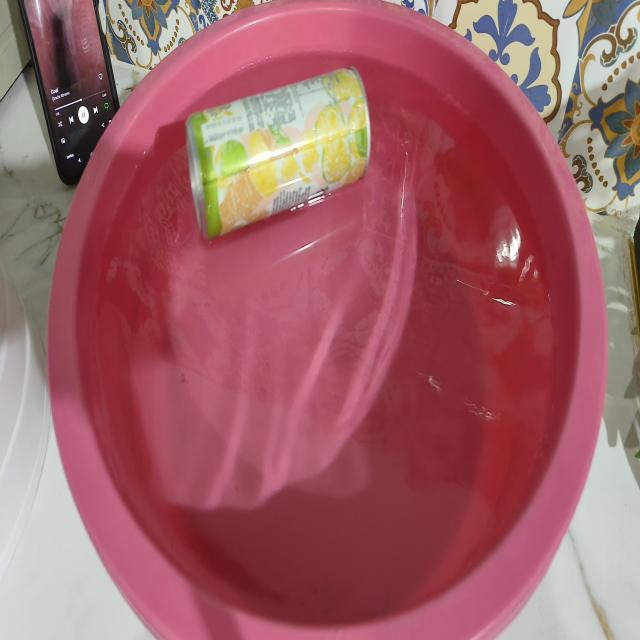Aluminum Can: (186, 69, 370, 239)
